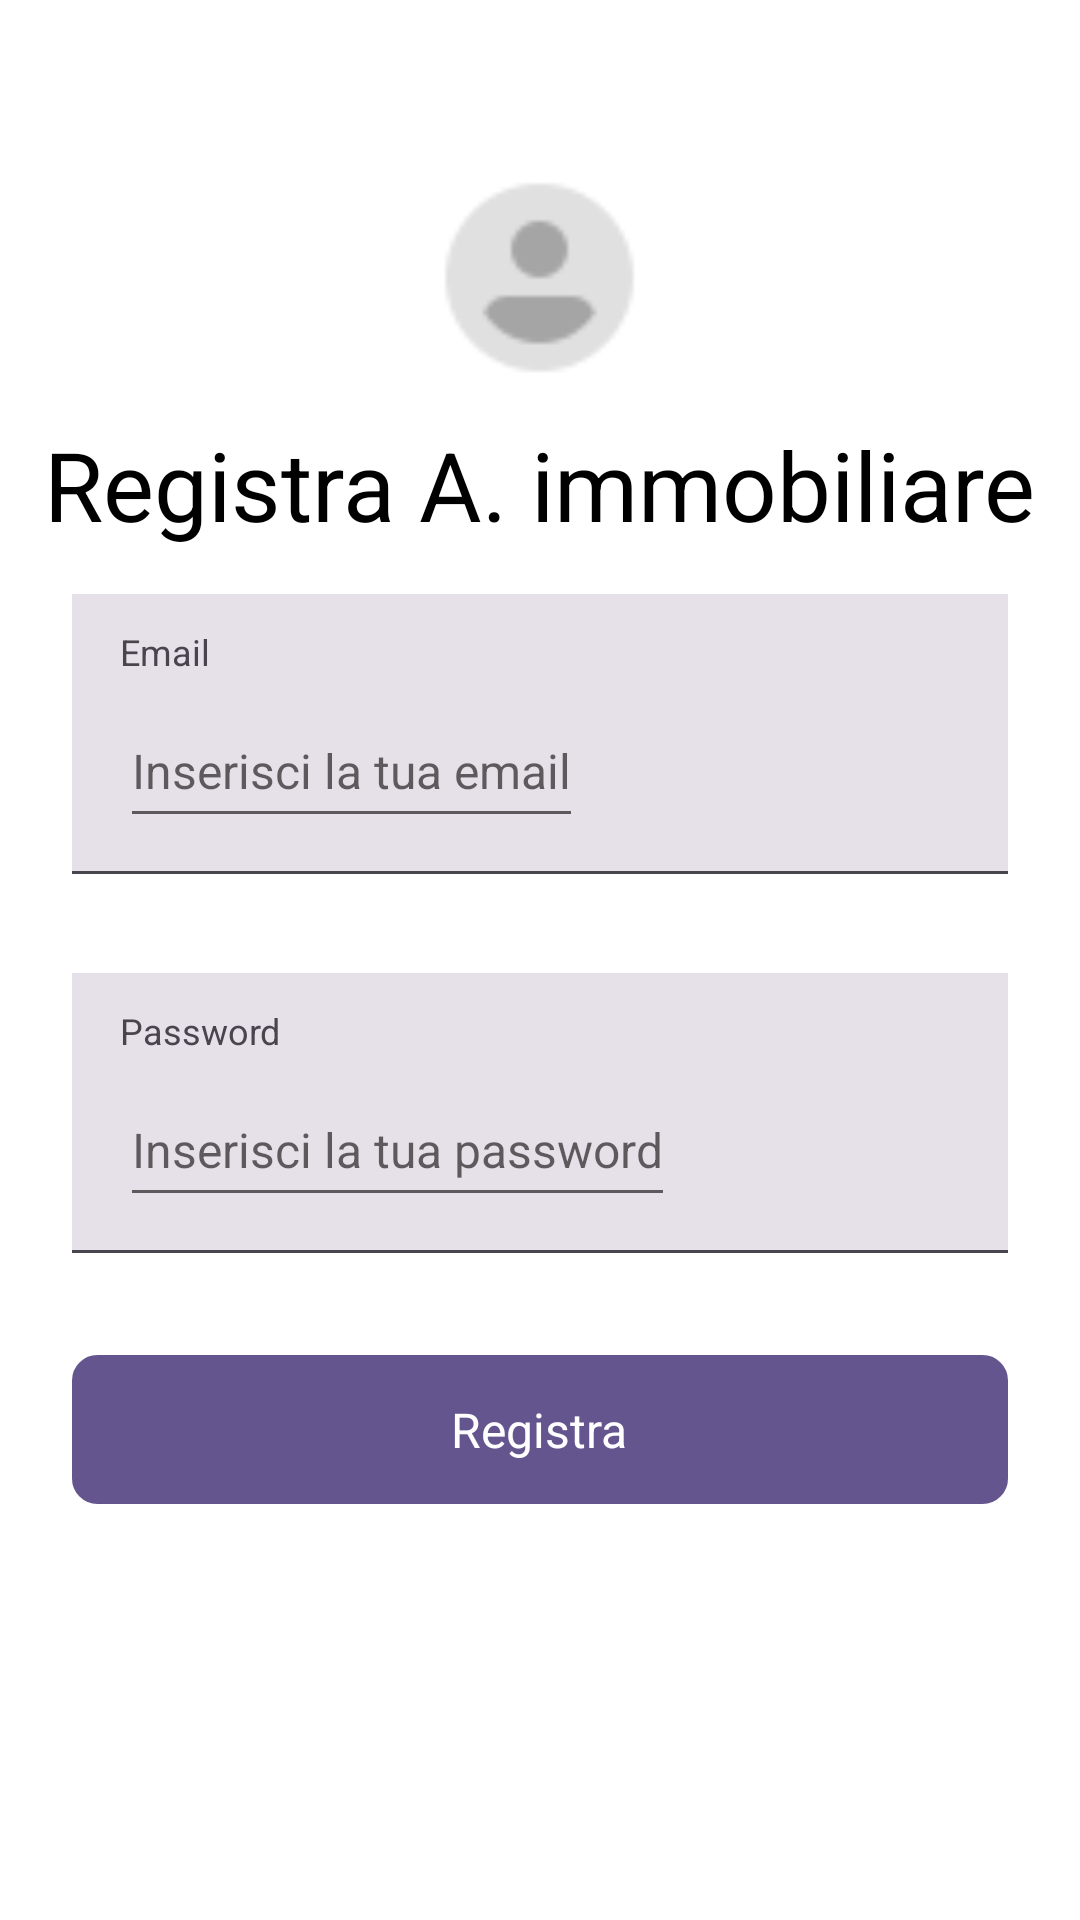

Point at icon controls on the screen. Image size 1080 x 1920, points as point (x, y).
account: point (539, 277)
